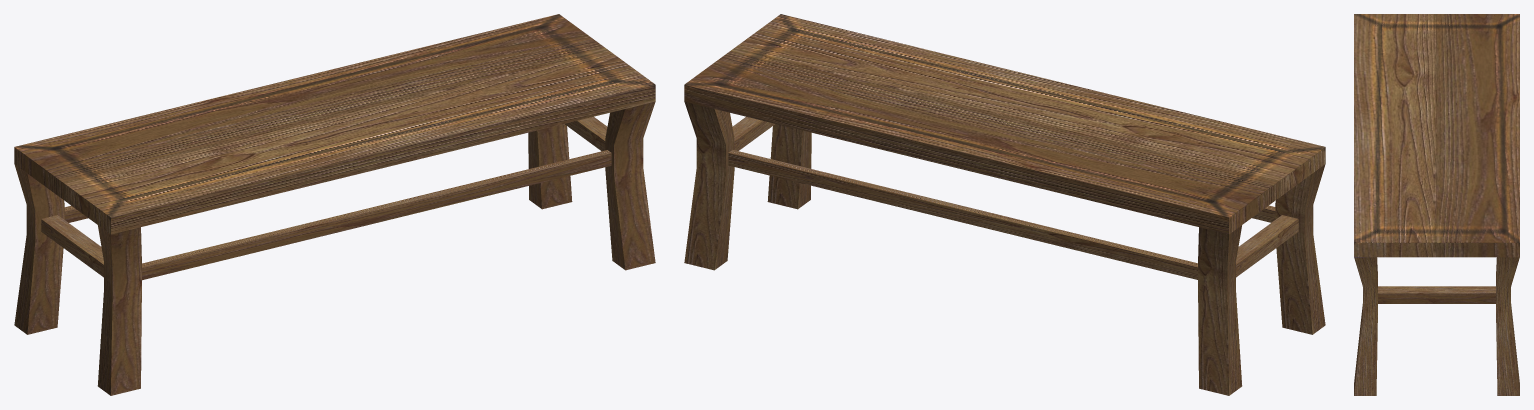
The model's file is Table_9.FBX.
The picture shows the model from 3 angles, left to right: view 1: azimuth 30°, elevation 25°; view 2: azimuth 150°, elevation 25°; view 3: azimuth 270°, elevation 25°; orthographic projection. The views are drawn at different scales.
Parts seen in each view (by area): view 1: Table_9; view 2: Table_9; view 3: Table_9.
Part boxes in pixels (x1=…): Table_9: x1=14, y1=14, x2=655, y2=395; Table_9: x1=684, y1=14, x2=1325, y2=395; Table_9: x1=1354, y1=14, x2=1519, y2=395.
Bounding box in the file's own units: 78.51 × 24.58 × 24.08.
